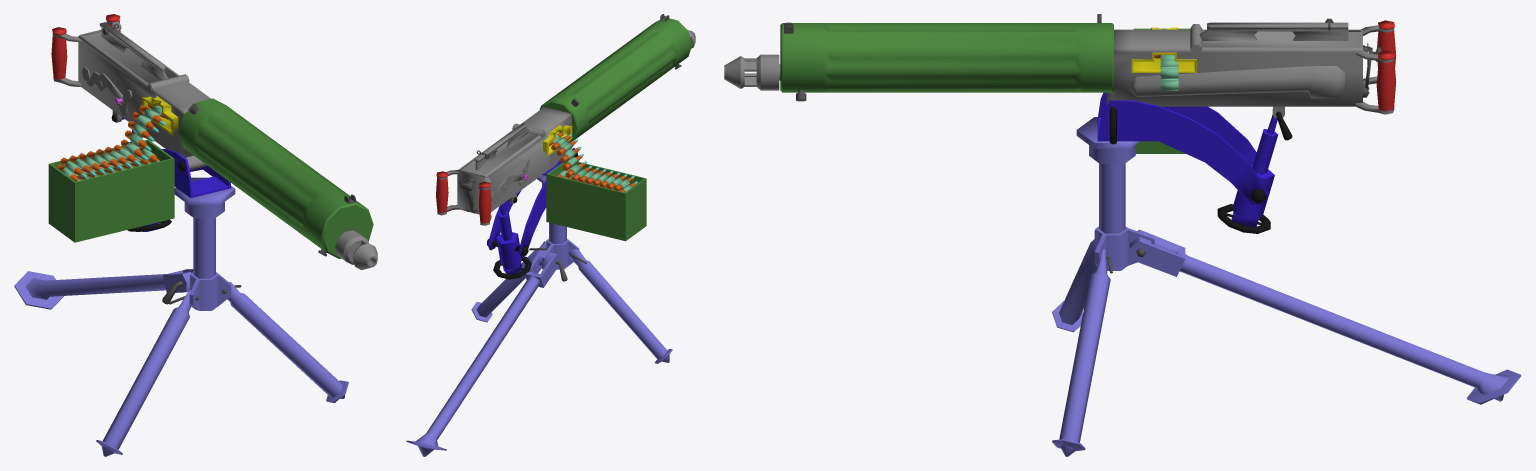
File: VickersMG.fbx
The picture shows the model from 3 angles, left to right: view 1: azimuth 30°, elevation 25°; view 2: azimuth 150°, elevation 25°; view 3: azimuth 270°, elevation 25°; orthographic projection. The views are drawn at different scales.
Parts seen in each view (by area): view 1: ArmaCano, Tripe, ArmacaixaLatera, Municao.002, Tripe.001, PunhoMadeira, ArmaJanelaEjecao; view 2: ArmaCano, Tripe, ArmacaixaLatera, Tripe.001, Municao.002, PunhoMadeira, Metais.001, AlcaMira, ArmaJanelaEjecao; view 3: ArmaCano, ArmacaixaLatera, Tripe, Tripe.001, PunhoMadeira, Metais.001, ArmaJanelaEjecao.
Boxes of the visible parts, x1=… form: ArmaCano: x1=48, y1=98, x2=373, y2=258; Tripe: x1=14, y1=177, x2=348, y2=456; ArmacaixaLatera: x1=52, y1=20, x2=377, y2=269; Municao.002: x1=56, y1=103, x2=170, y2=181; Tripe.001: x1=122, y1=117, x2=231, y2=231; PunhoMadeira: x1=51, y1=14, x2=120, y2=79; ArmaJanelaEjecao: x1=142, y1=96, x2=178, y2=136; ArmaCano: x1=539, y1=18, x2=692, y2=241; Tripe: x1=406, y1=175, x2=672, y2=456; ArmacaixaLatera: x1=437, y1=30, x2=695, y2=225; Tripe.001: x1=487, y1=148, x2=574, y2=274; Municao.002: x1=549, y1=132, x2=637, y2=192; PunhoMadeira: x1=436, y1=171, x2=491, y2=223; Metais.001: x1=487, y1=152, x2=578, y2=279; AlcaMira: x1=458, y1=14, x2=681, y2=213; ArmaJanelaEjecao: x1=543, y1=125, x2=572, y2=156; ArmaCano: x1=780, y1=23, x2=1190, y2=153; ArmacaixaLatera: x1=724, y1=22, x2=1394, y2=118; Tripe: x1=1052, y1=117, x2=1521, y2=456; Tripe.001: x1=1097, y1=92, x2=1278, y2=226; PunhoMadeira: x1=1376, y1=20, x2=1396, y2=111; Metais.001: x1=1109, y1=107, x2=1292, y2=233; ArmaJanelaEjecao: x1=1131, y1=27, x2=1196, y2=72.
Bounding box in the file's own units: 70.9 × 90.51 × 172.
